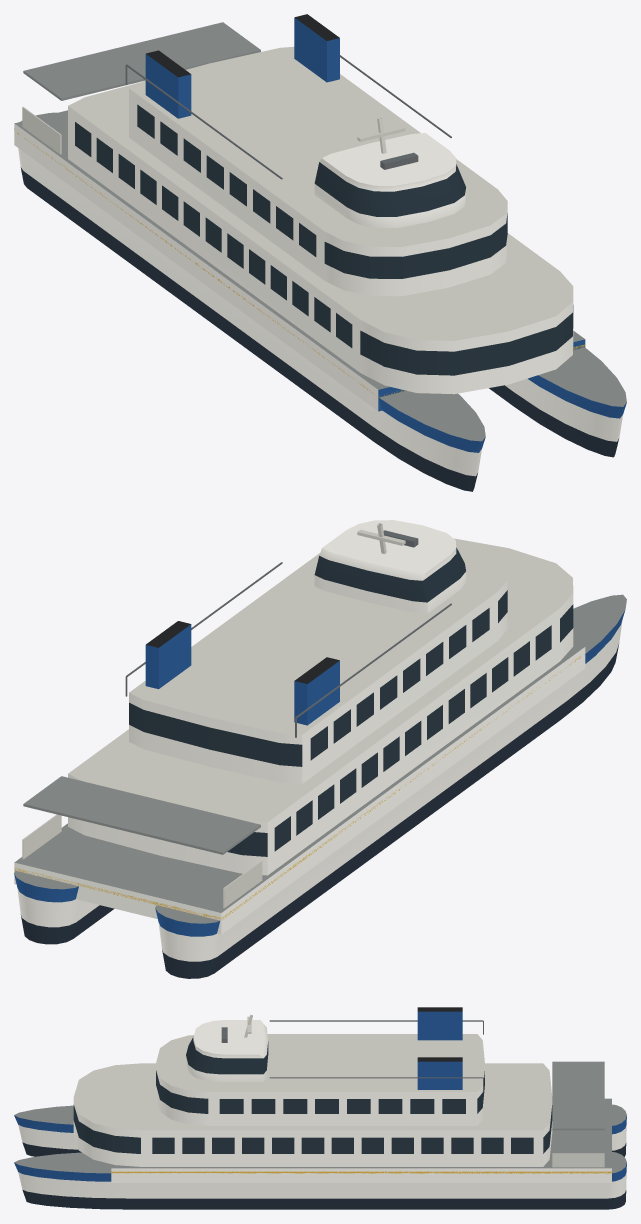
The model's file is sf_ferry.glb.
The picture shows the model from 3 angles, top to bottom: view 1: azimuth 30°, elevation 25°; view 2: azimuth 150°, elevation 25°; view 3: azimuth 270°, elevation 25°; orthographic projection. The views are drawn at different scales.
Visible parts, largest first — view 1: sf_ferry; view 2: sf_ferry; view 3: sf_ferry.
Part boxes in pixels (<box>): sf_ferry: <box>14,14,626,491</box>; sf_ferry: <box>14,520,626,978</box>; sf_ferry: <box>14,1007,626,1209</box>.
Bounding box in the file's own units: 11 × 12.02 × 41.
1 material, 1 textured.
